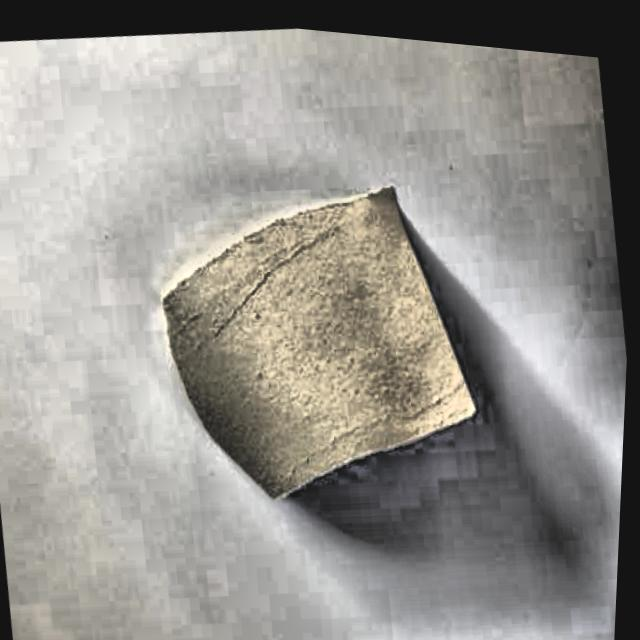Cardbox: (131, 137, 513, 546)
